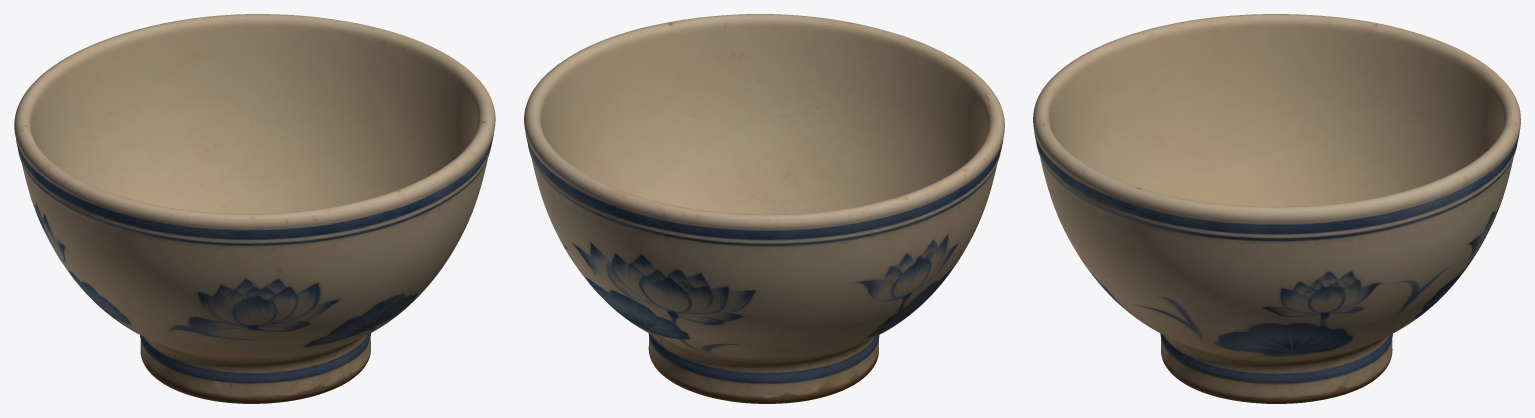
The model's file is Bowl.fbx.
The picture shows the model from 3 angles, left to right: view 1: azimuth 30°, elevation 25°; view 2: azimuth 150°, elevation 25°; view 3: azimuth 270°, elevation 25°; orthographic projection.
Visible parts, largest first — view 1: Mesh_0; view 2: Mesh_0; view 3: Mesh_0.
Boxes of the visible parts, bbox=[...] form: Mesh_0: bbox=[14, 14, 495, 403]; Mesh_0: bbox=[524, 14, 1004, 403]; Mesh_0: bbox=[1033, 14, 1520, 403].
Size of the model in its own units: 105 by 59.96 by 105.
Materials: 1 (1 with a texture image).
